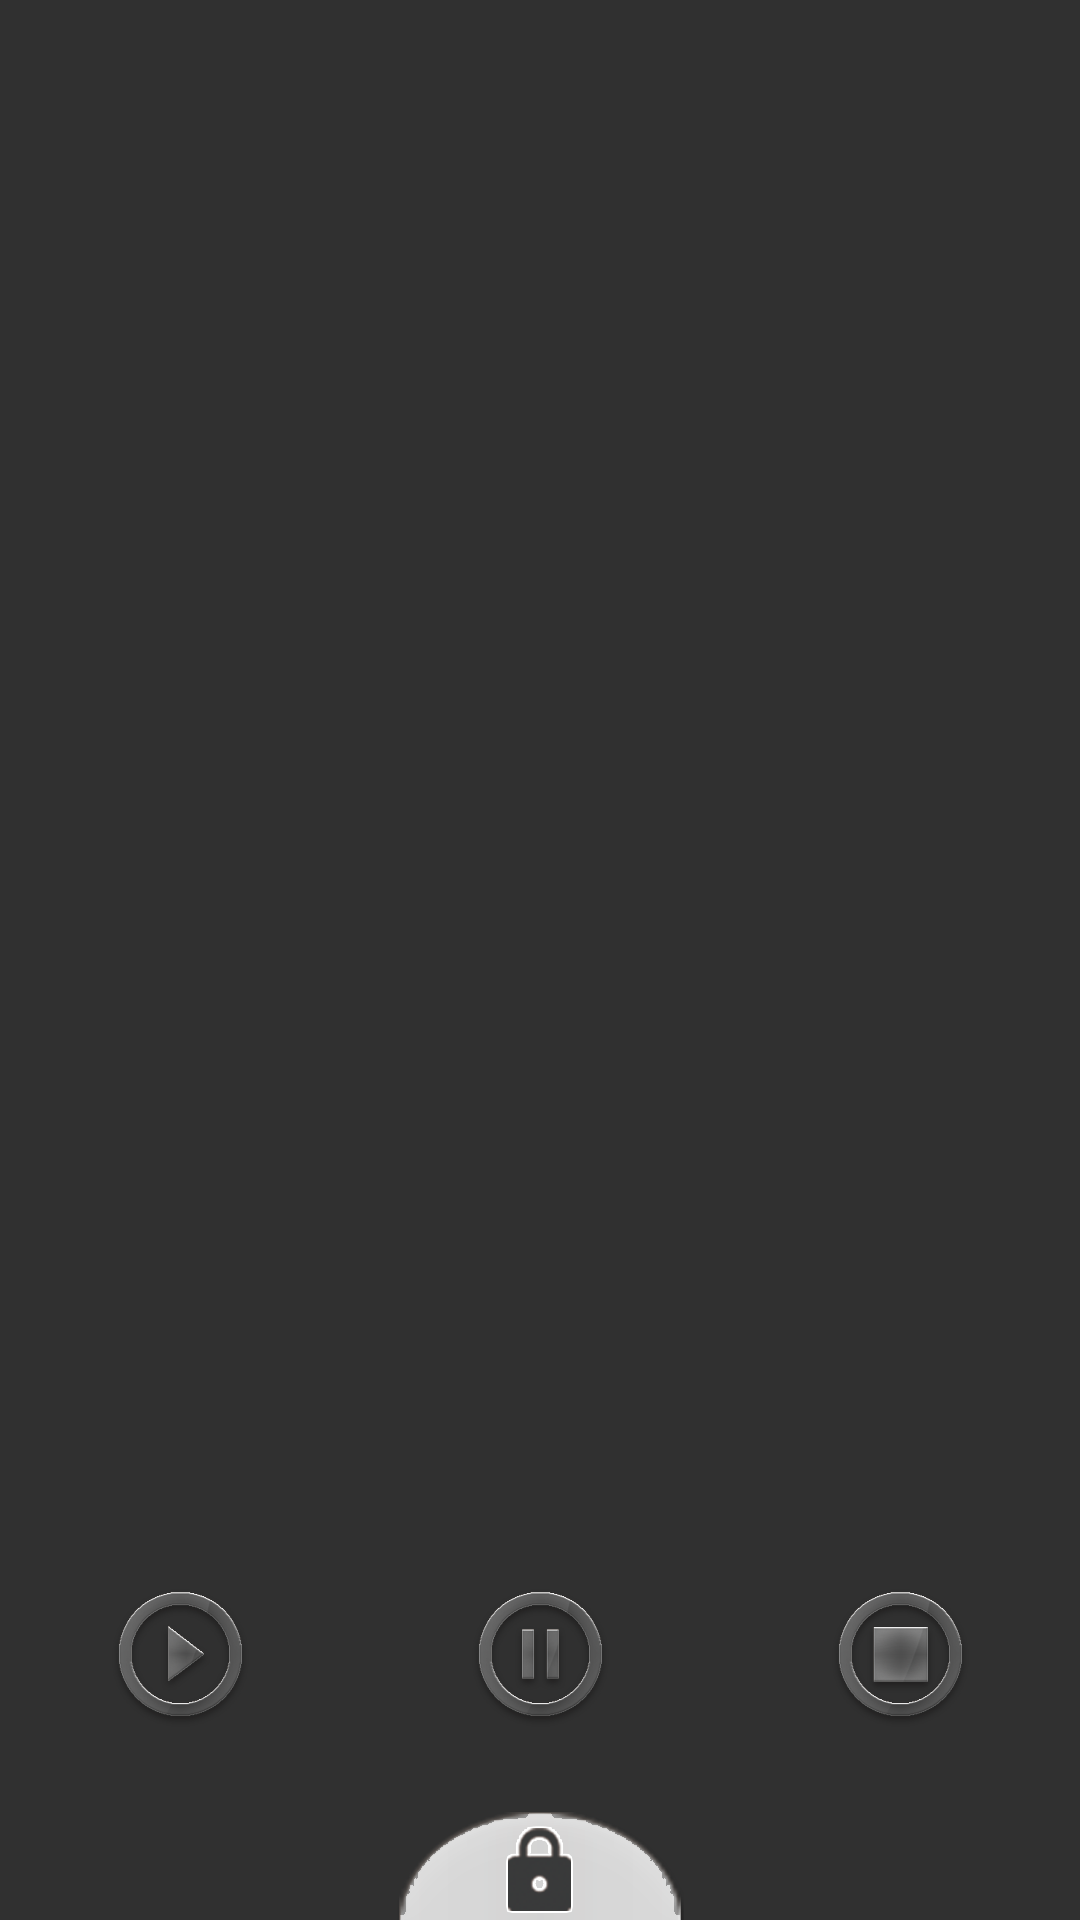

Icons on this 1080px×1920px Android screen, each with its box as (x1, y1, x2, y2):
pause glass: (479, 1592, 602, 1716)
play glass: (119, 1592, 242, 1716)
stop glass: (839, 1592, 962, 1716)
unlock: (399, 1812, 681, 1920)
